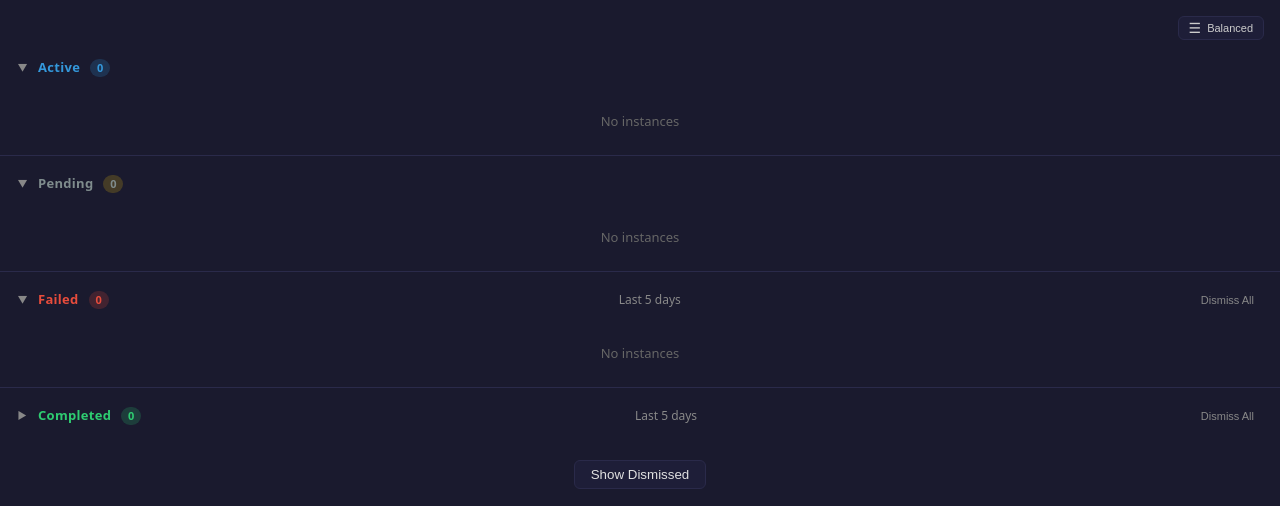
Scenario: QueueView dismiss handlers › handleDismissAll: API failure surfaces an error and does not refetch
Check: the button "Show Dismissed" is shown, box left=574, top=460, right=706, bottom=488
Click the 1st button "Dismiss All".
click(1227, 300)  # box left=1191, top=291, right=1264, bottom=309
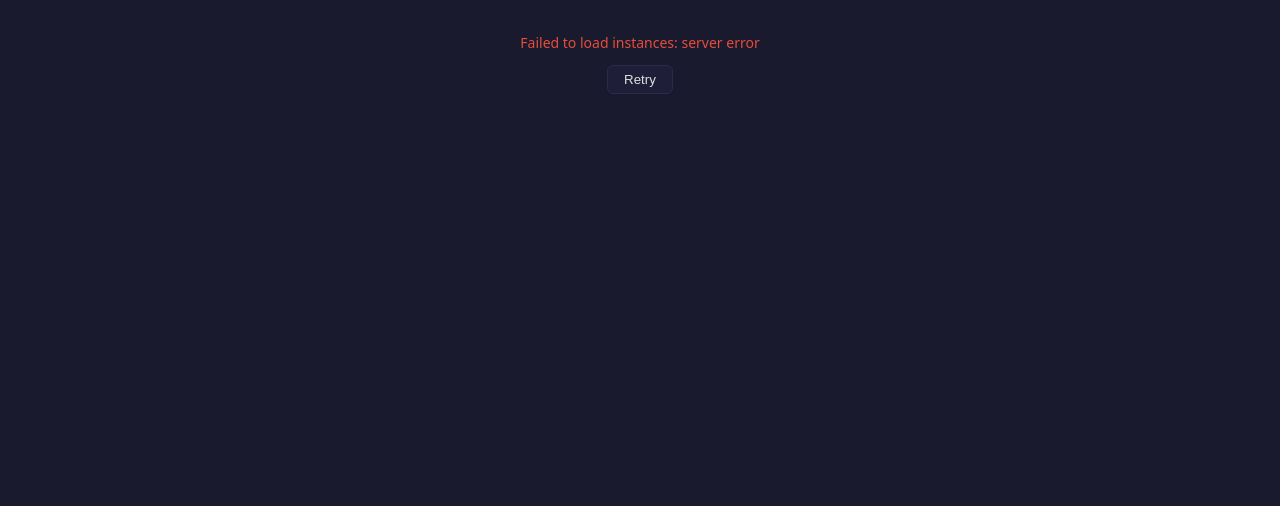
Check: the text "Failed to load instances: server error" is shown, box left=520, top=33, right=760, bottom=52
